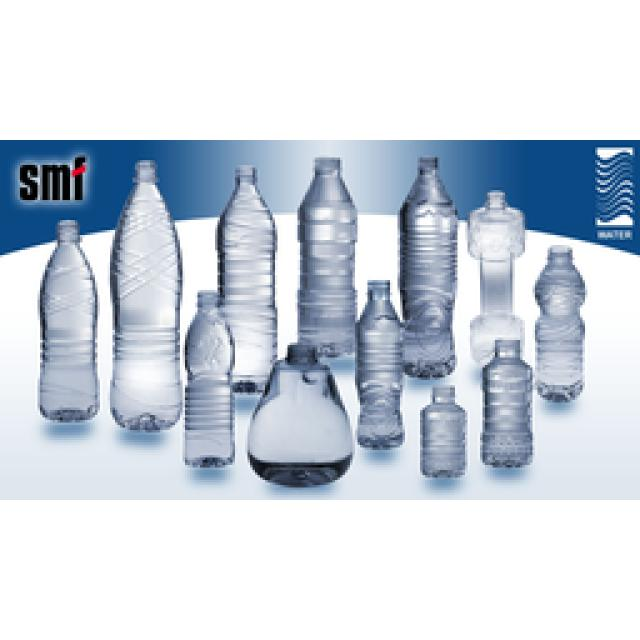plastic_water_bottles: (108, 158, 180, 435), (42, 222, 98, 425), (477, 334, 535, 468)
